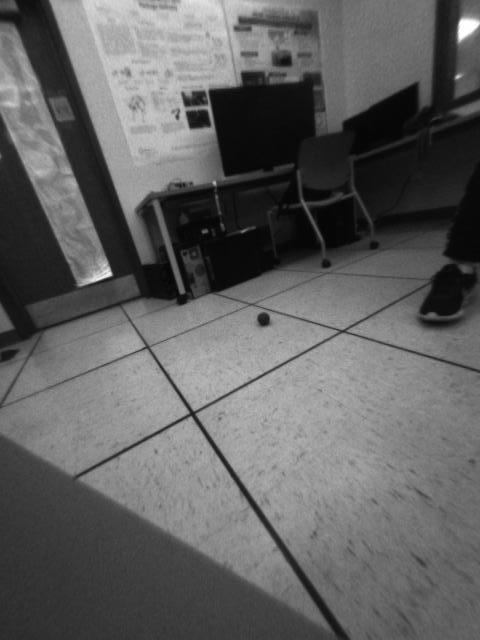dogtoy: (248, 304, 282, 332)
